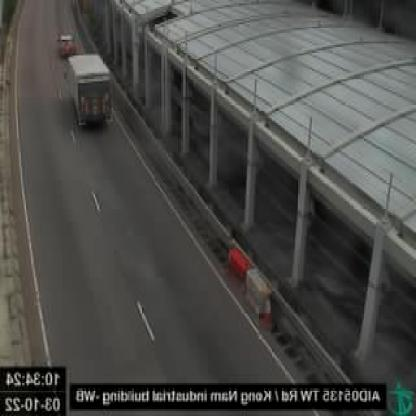Car: (61, 33, 77, 52)
Truck: (65, 52, 116, 125)
